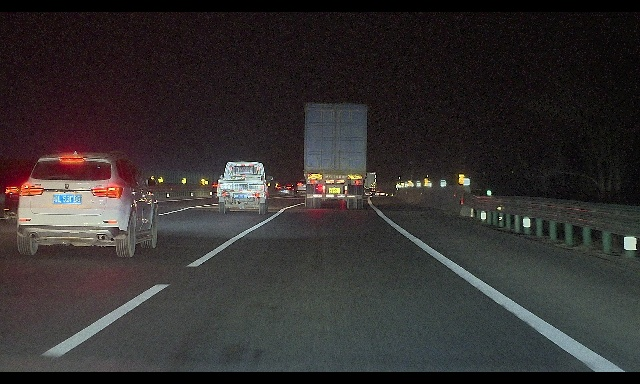car: (17, 151, 159, 257), (3, 169, 73, 225), (212, 178, 235, 200), (296, 179, 314, 198), (275, 181, 294, 196)
truck: (304, 103, 367, 209), (217, 162, 273, 215), (359, 172, 376, 195)
